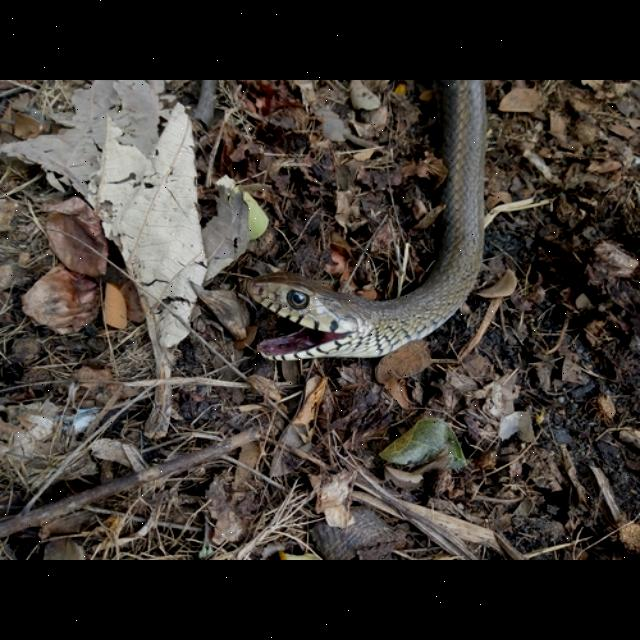snake: (245, 80, 493, 370)
